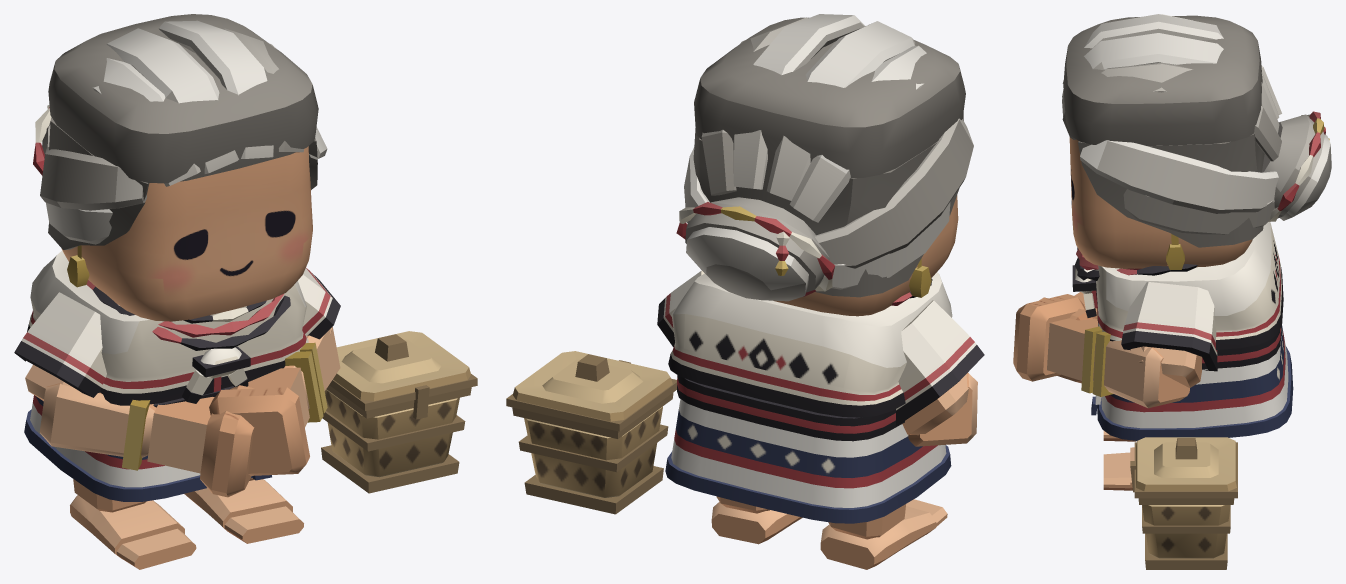
The model's file is audience_v2_elder_woman_stand.glb.
The picture shows the model from 3 angles, left to right: view 1: azimuth 30°, elevation 25°; view 2: azimuth 150°, elevation 25°; view 3: azimuth 270°, elevation 25°; orthographic projection. The views are drawn at different scales.
Parts seen in each view (by area): view 1: audience_v2_elder_woman_stand; view 2: audience_v2_elder_woman_stand; view 3: audience_v2_elder_woman_stand.
Part boxes in pixels (x1=…): audience_v2_elder_woman_stand: x1=14, y1=14, x2=477, y2=569; audience_v2_elder_woman_stand: x1=506, y1=14, x2=984, y2=569; audience_v2_elder_woman_stand: x1=1013, y1=14, x2=1331, y2=569.
Bounding box in the file's own units: 0.6097 × 0.6764 × 0.4539.
Materials: 1 (1 with a texture image).
